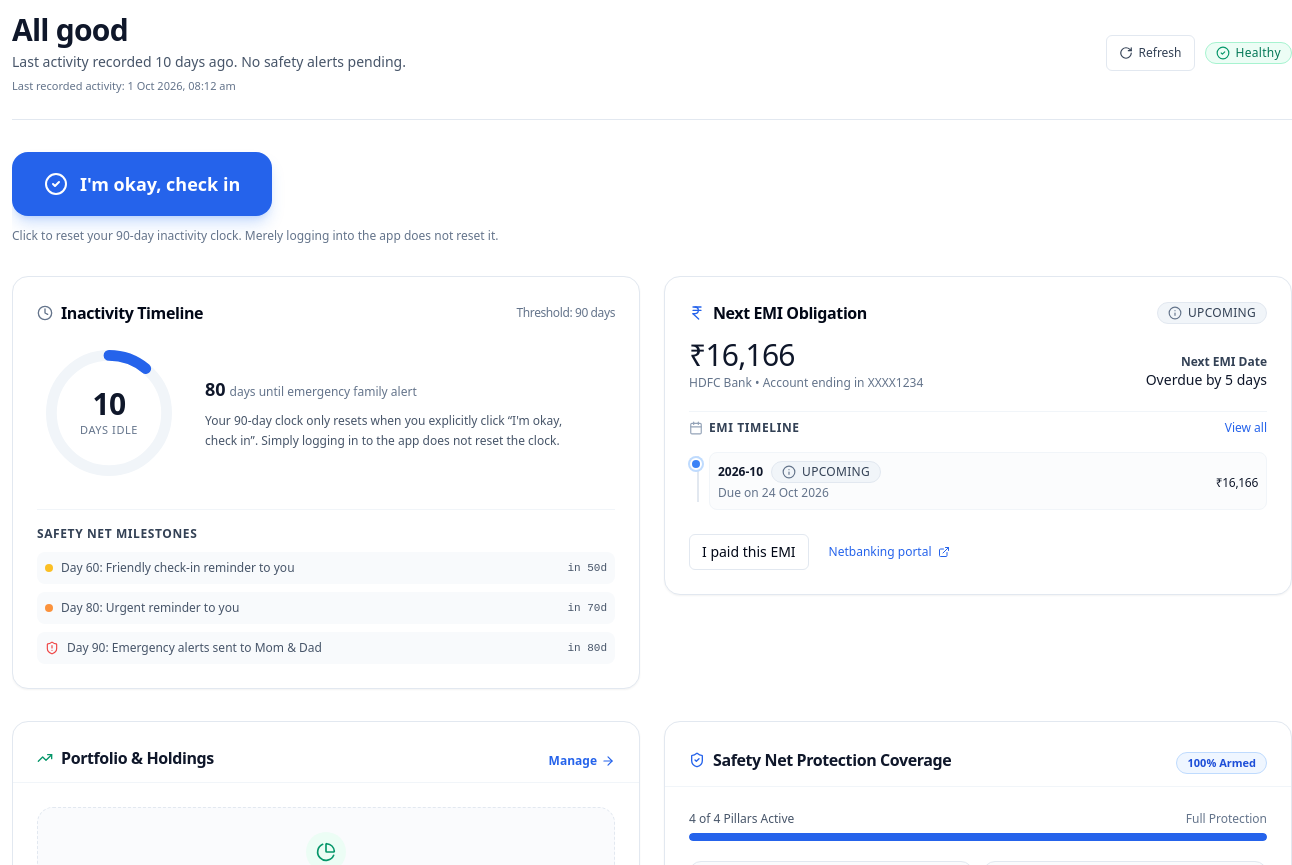
Test: Dashboard Page › handles check-in failure with clear retry button and no false success
Click the button with aria-label "i'm okay, check in today" at (142, 184), box x1=12 y1=152 x2=272 y2=216
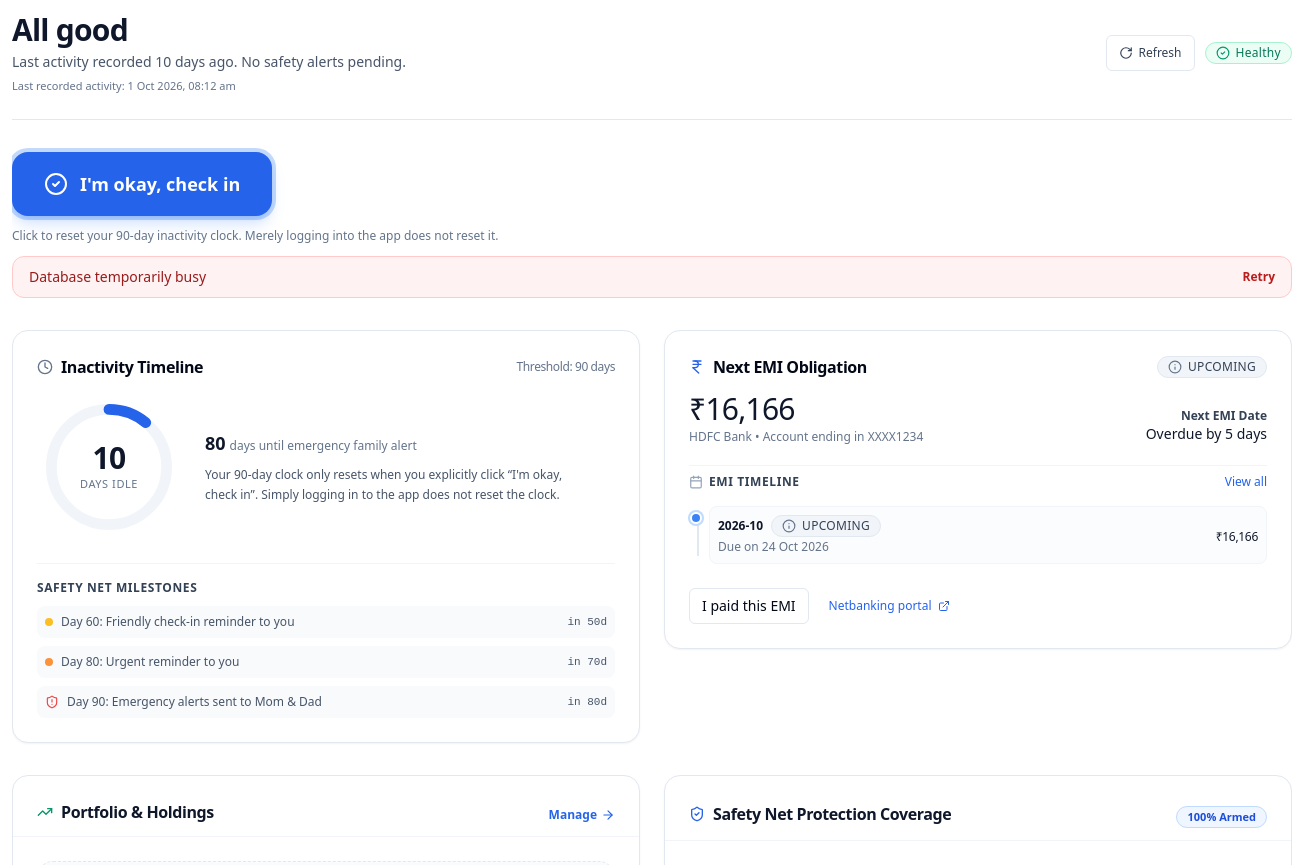
Result: the message "Database temporarily busy Retry" is shown at x1=12 y1=256 x2=1291 y2=298
Result: the text "Database temporarily busy" is shown at x1=29 y1=266 x2=206 y2=286
Result: the button "Retry" is shown at x1=1242 y1=268 x2=1275 y2=284
